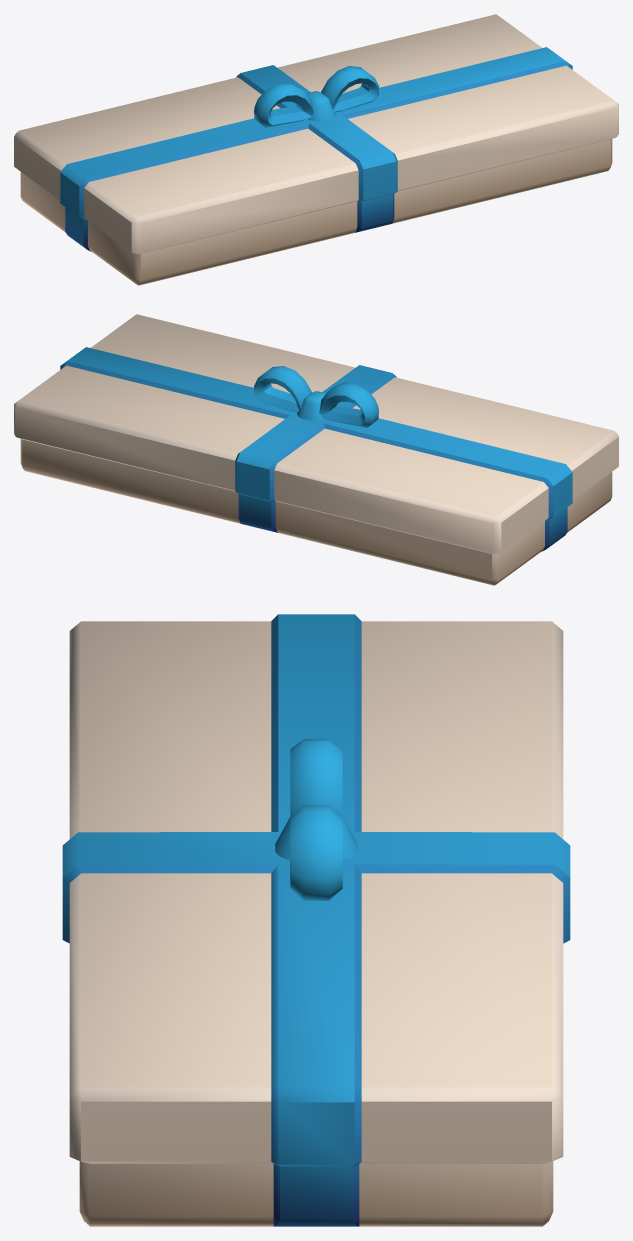
The model's file is present_F_white.glb.
3 views of the same model, one above another, from view 1: azimuth 30°, elevation 25°; view 2: azimuth 150°, elevation 25°; view 3: azimuth 270°, elevation 25° (orthographic). The views are drawn at different scales.
Parts seen in each view (by area): view 1: present_F_white; view 2: present_F_white; view 3: present_F_white.
Part boxes in pixels (left/top/right/bottom): present_F_white: left=14, top=14, right=618, bottom=285; present_F_white: left=14, top=314, right=618, bottom=585; present_F_white: left=62, top=614, right=570, bottom=1226.
Bounding box in the file's own units: 2.16 × 0.4617 × 0.9638.
Materials: 1 (1 with a texture image).
